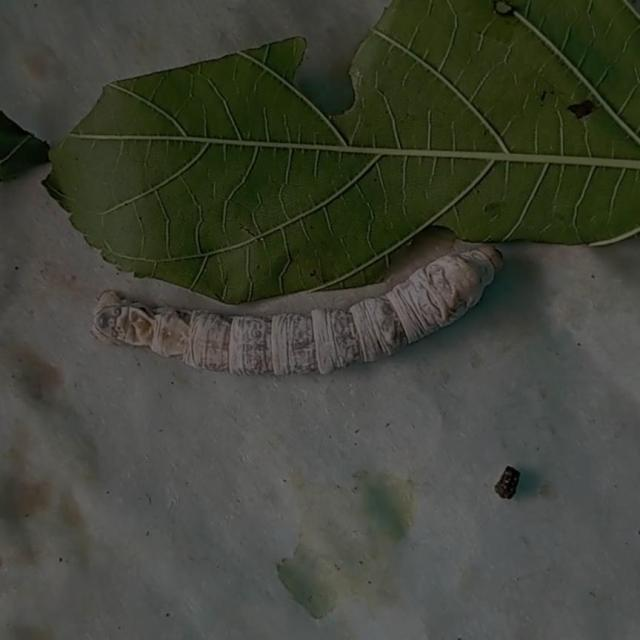Grasserie: (88, 241, 508, 401)
